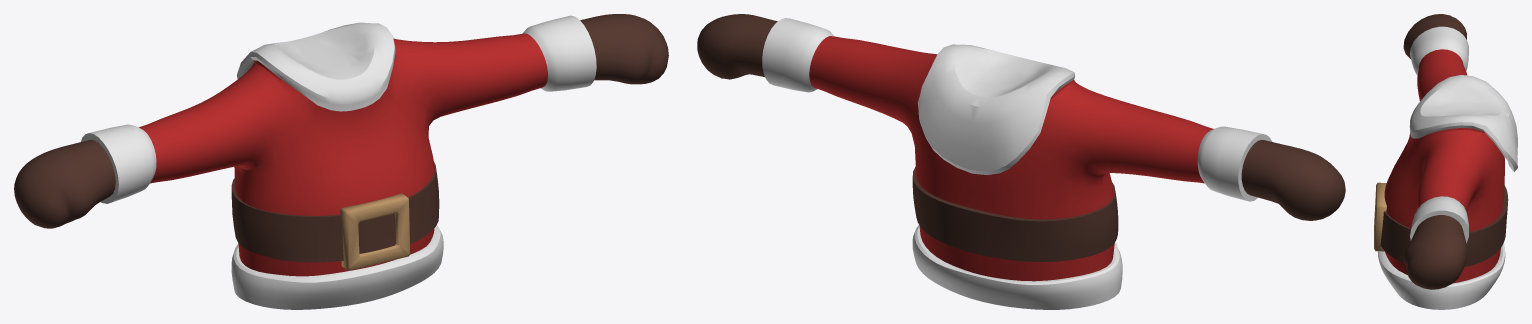
Rendered from 19圣诞老人套装.fbx.
3 renders of one model, left to right at view 1: azimuth 30°, elevation 25°; view 2: azimuth 150°, elevation 25°; view 3: azimuth 270°, elevation 25°, orthographic. The views are drawn at different scales.
Visible parts, largest first — view 1: 19圣诞老人套装; view 2: 19圣诞老人套装; view 3: 19圣诞老人套装.
Part boxes in pixels (x1=…): 19圣诞老人套装: x1=14, y1=14, x2=668, y2=309; 19圣诞老人套装: x1=697, y1=14, x2=1345, y2=309; 19圣诞老人套装: x1=1374, y1=14, x2=1517, y2=309.
Bounding box in the file's own units: 2.01 × 0.6831 × 0.4987.
